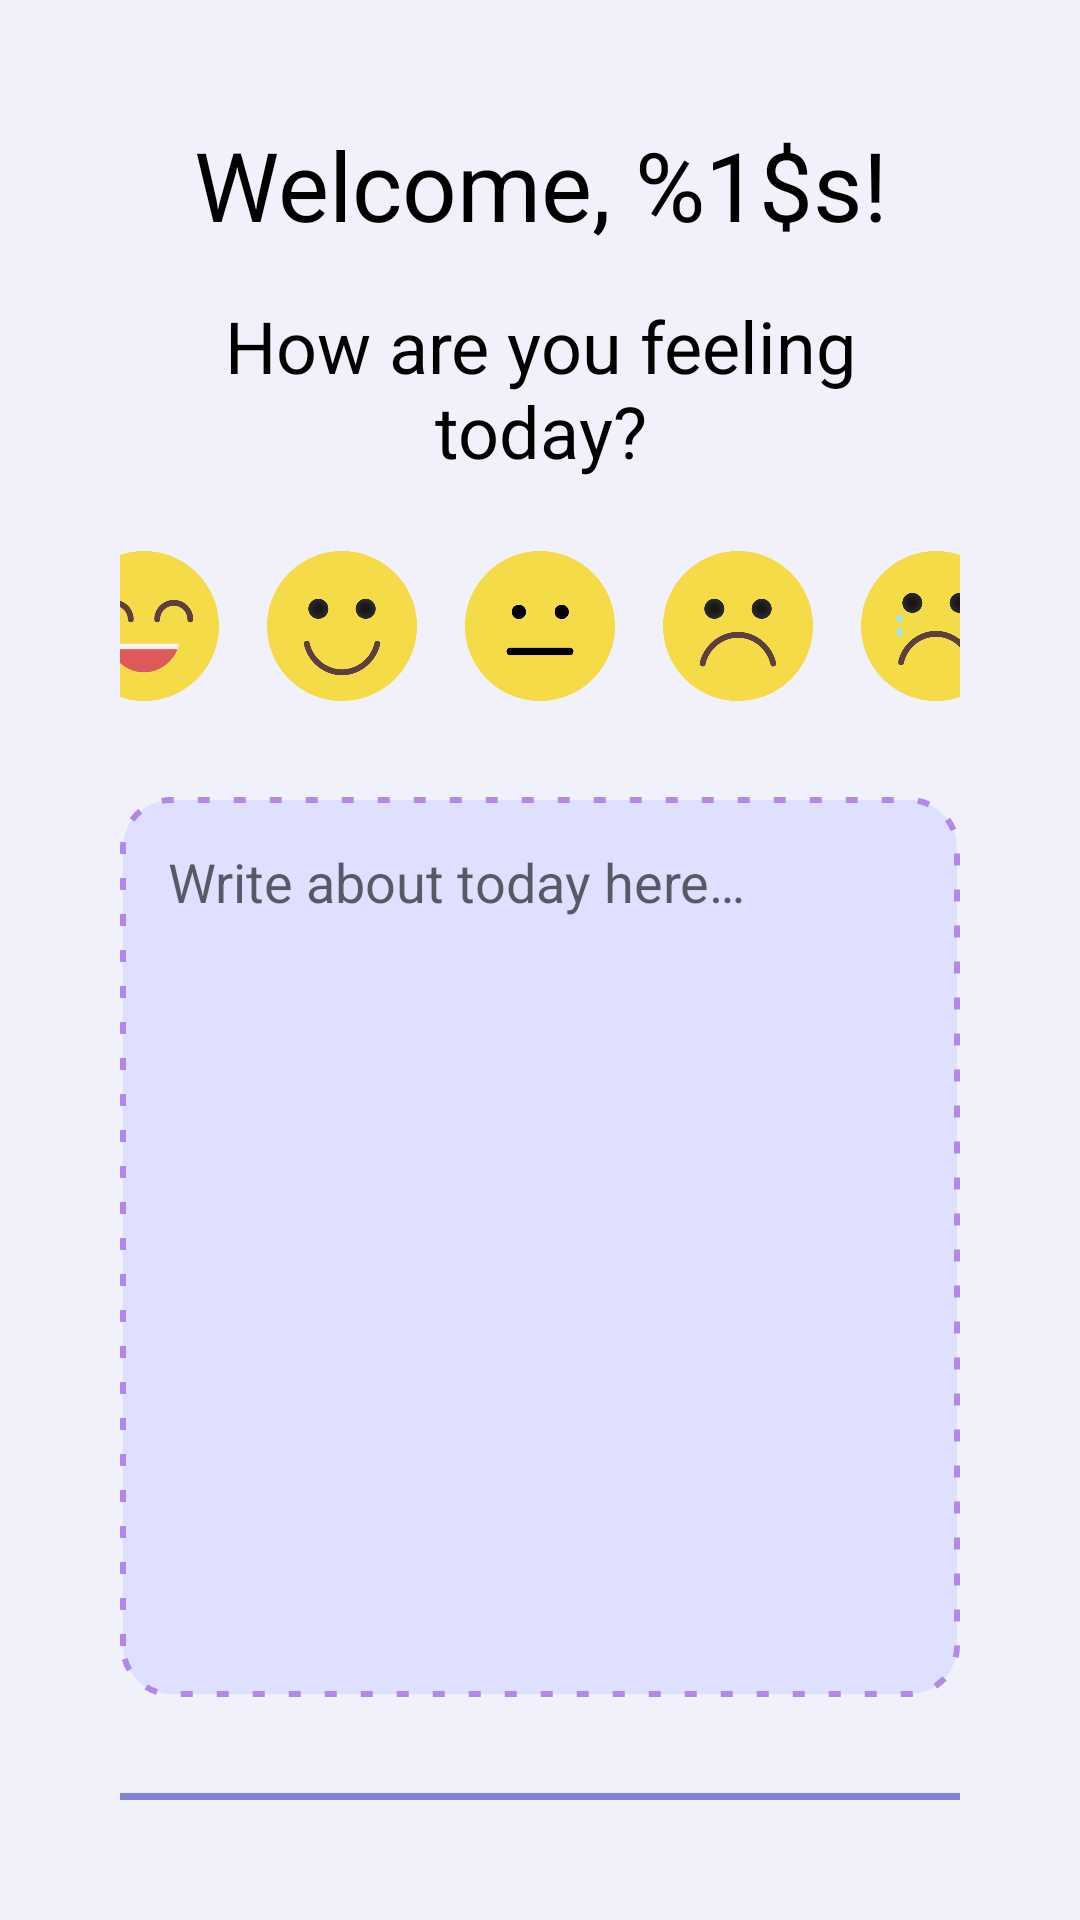

Point at icon controls on the screen. Image size 1080w x 1920h, points as (x,y).
happy: (342,626)
meh: (540,626)
sad: (738,626)
